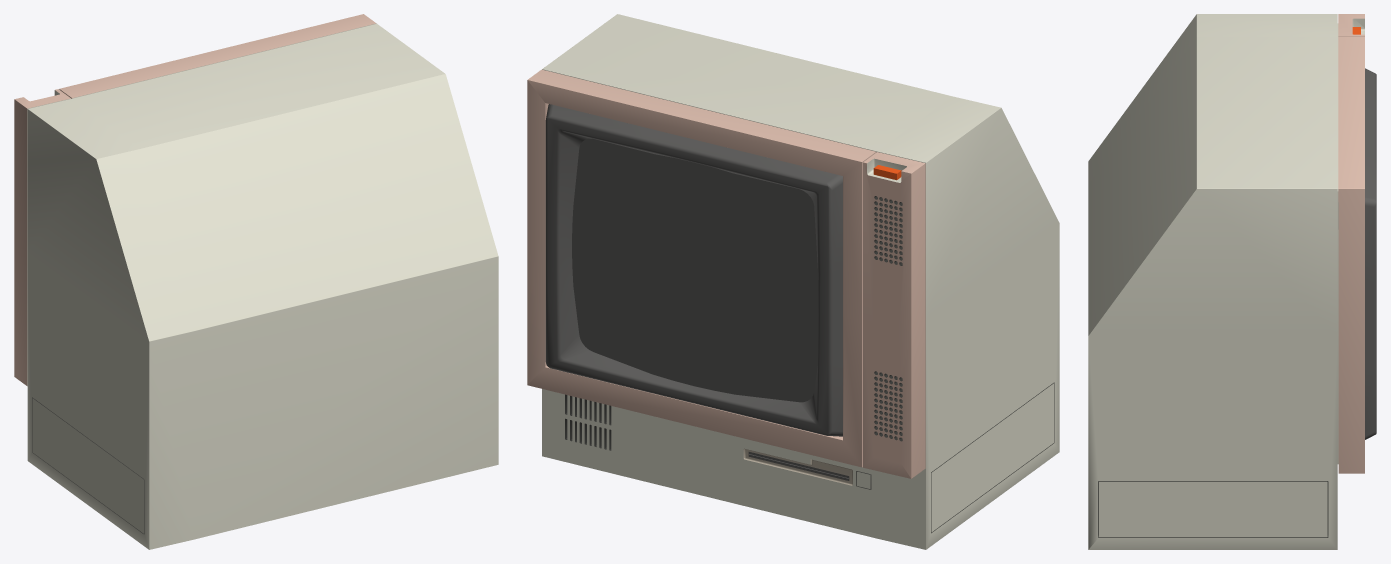
Rendered from Monitor.glb.
3 renders of one model, left to right at view 1: azimuth 30°, elevation 25°; view 2: azimuth 150°, elevation 25°; view 3: azimuth 270°, elevation 25°, orthographic. The views are drawn at different scales.
Parts seen in each view (by area): view 1: Monitor; view 2: Monitor; view 3: Monitor.
Boxes of the visible parts, x1,y1,x2,y2 form: Monitor: [14, 14, 498, 549]; Monitor: [527, 14, 1059, 549]; Monitor: [1088, 14, 1376, 549].
Size of the model in its own units: 2.39 by 2.31 by 1.67.
